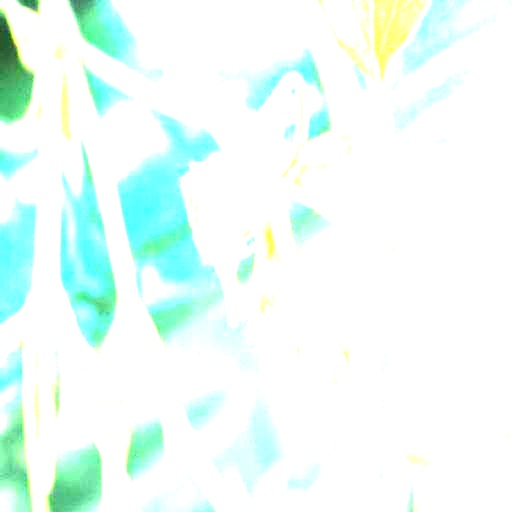Gray Mold: (182, 71, 309, 330)
